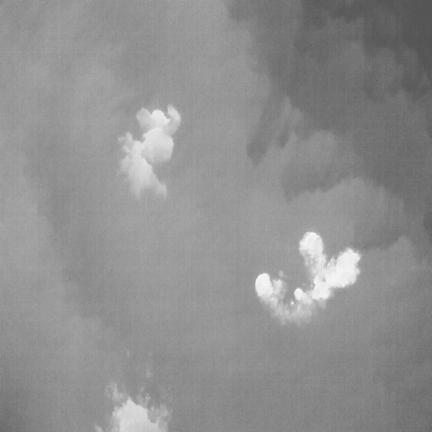flukeprints: (118, 105, 180, 199), (294, 232, 359, 304), (255, 273, 273, 298)
